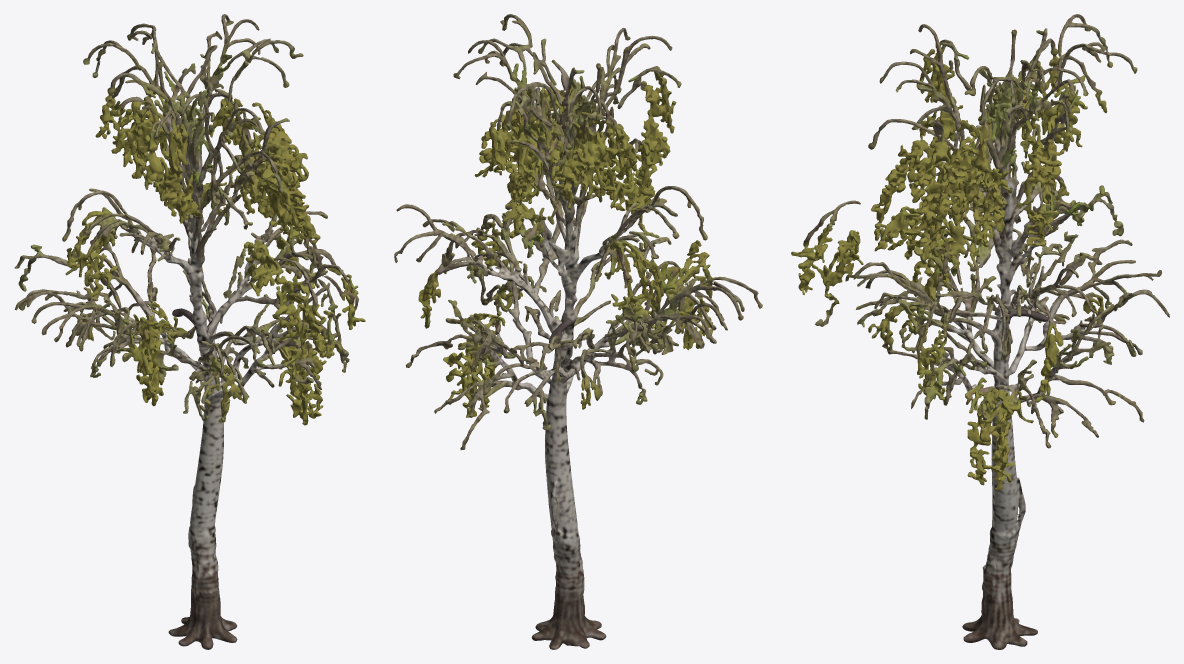
The model's file is task-4902868.glb.
The picture shows the model from 3 angles, left to right: view 1: azimuth 30°, elevation 25°; view 2: azimuth 150°, elevation 25°; view 3: azimuth 270°, elevation 25°; orthographic projection.
Visible parts, largest first — view 1: world; view 2: world; view 3: world.
Boxes of the visible parts, left/top/right/bottom form: world: left=14, top=14, right=365, bottom=649; world: left=394, top=14, right=762, bottom=649; world: left=791, top=14, right=1169, bottom=649.
Size of the model in its own units: 6.6 by 12 by 6.89.
Materials: 1 (1 with a texture image).
